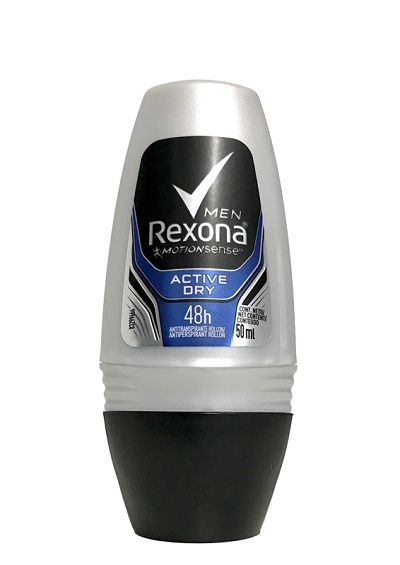rexona: (92, 72, 295, 540)
